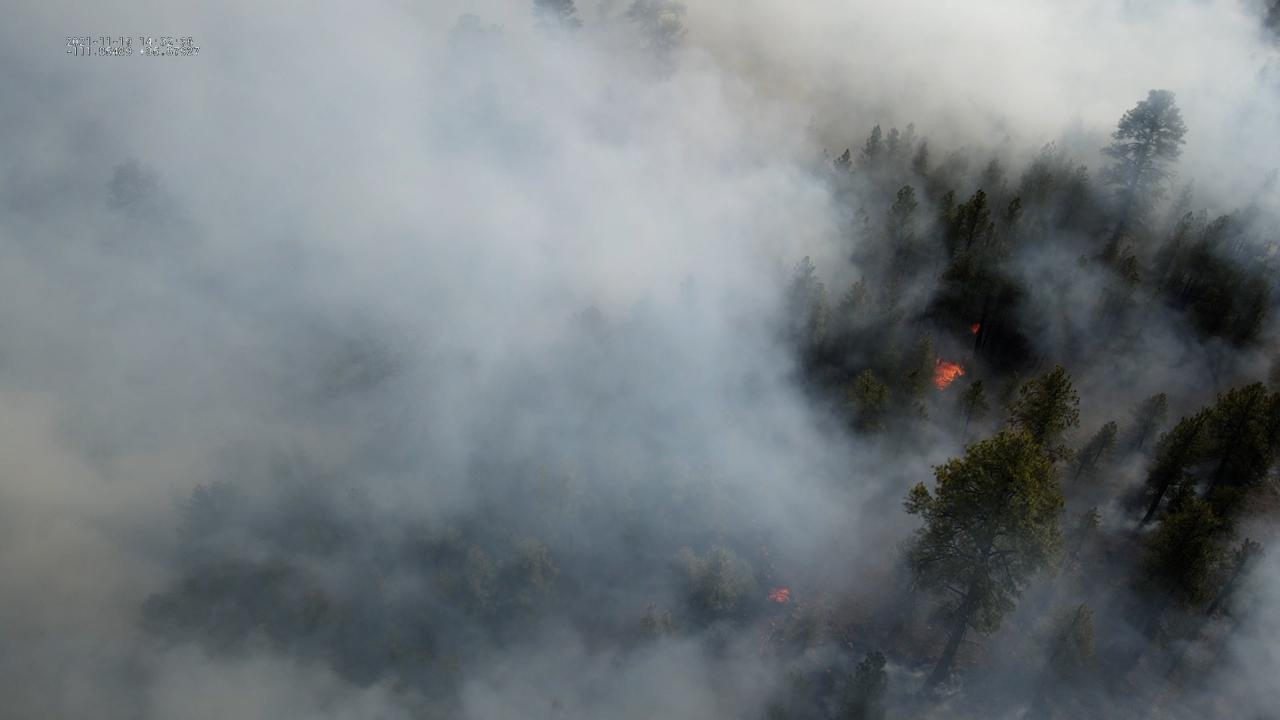fire: (931, 356, 968, 394), (765, 587, 792, 606), (969, 323, 982, 335)
smoke: (0, 0, 1280, 720)
